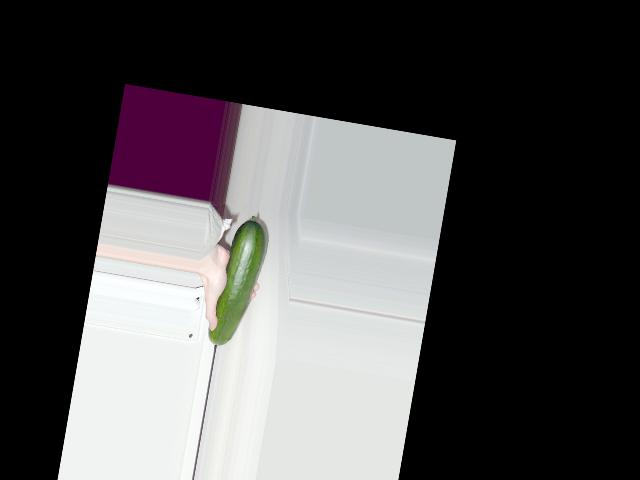cucumber: (206, 211, 272, 351)
